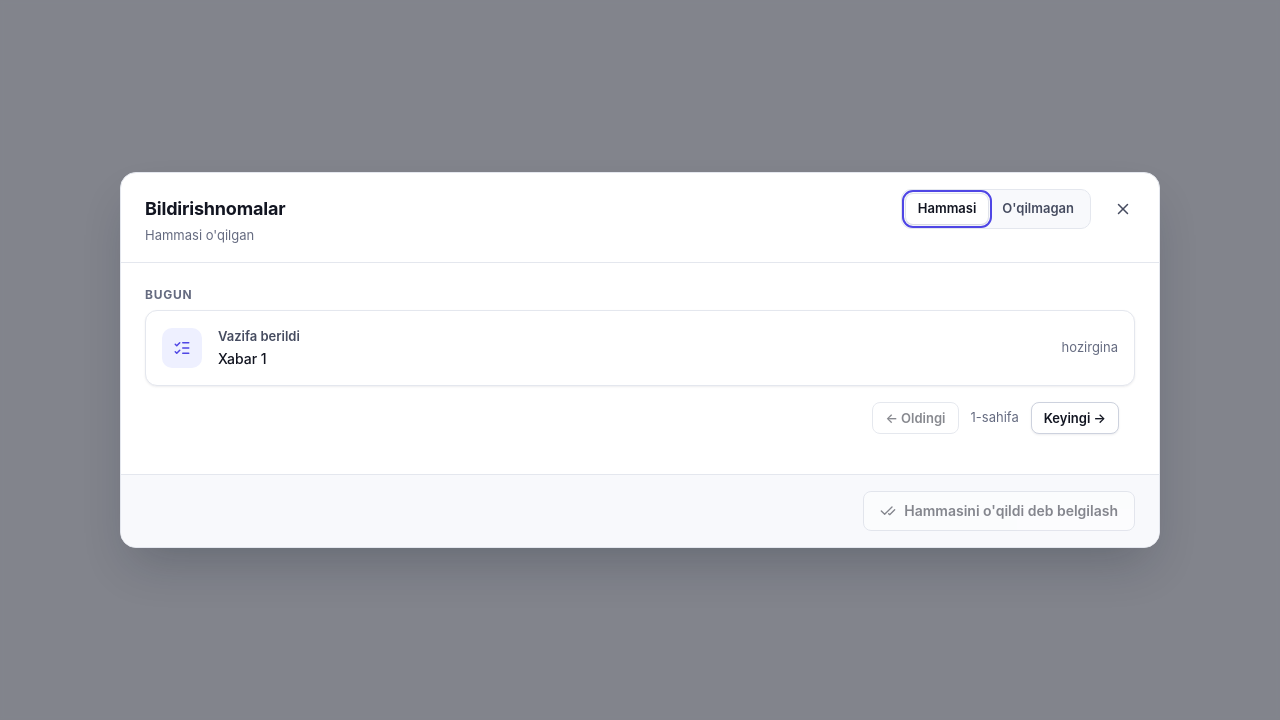
Test: NotificationsModal › keyingi sahifadagi bildirishnomani ko'rsatadi
Click the button "Keyingi →" at (1075, 418), box [1031, 402, 1119, 434]
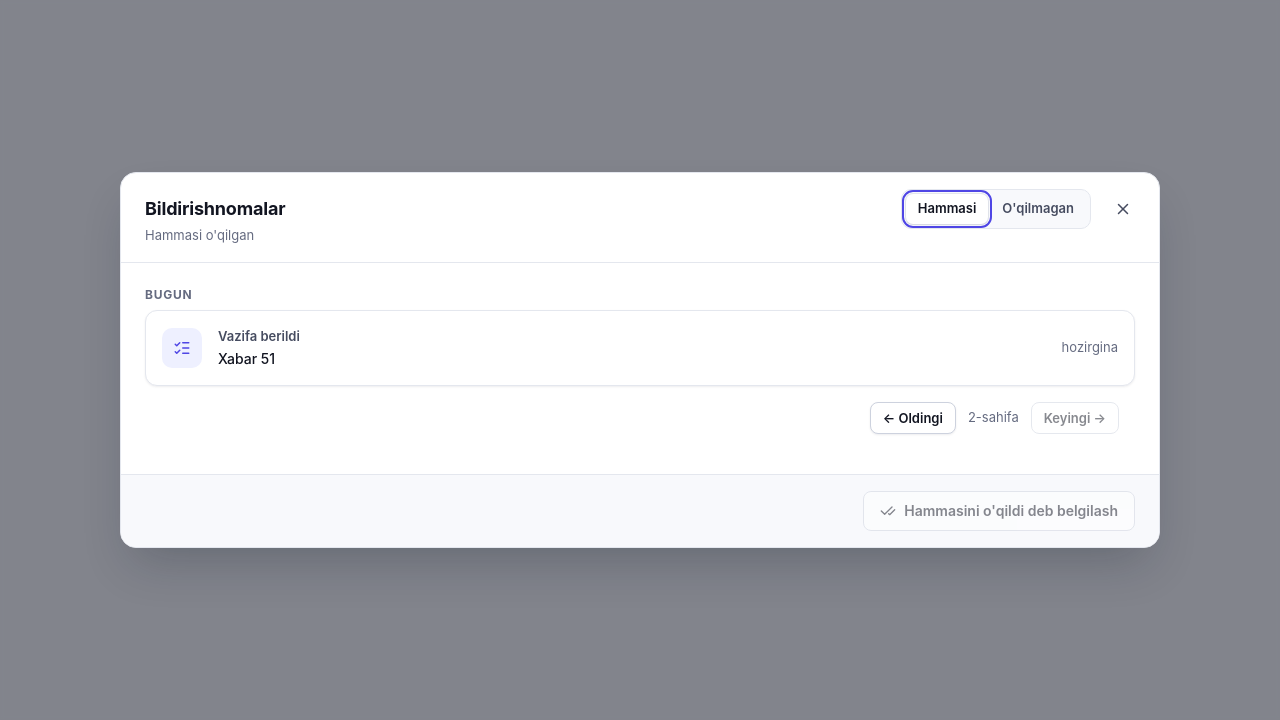
Now the text "Xabar 51" is shown, box [218, 350, 275, 367]
